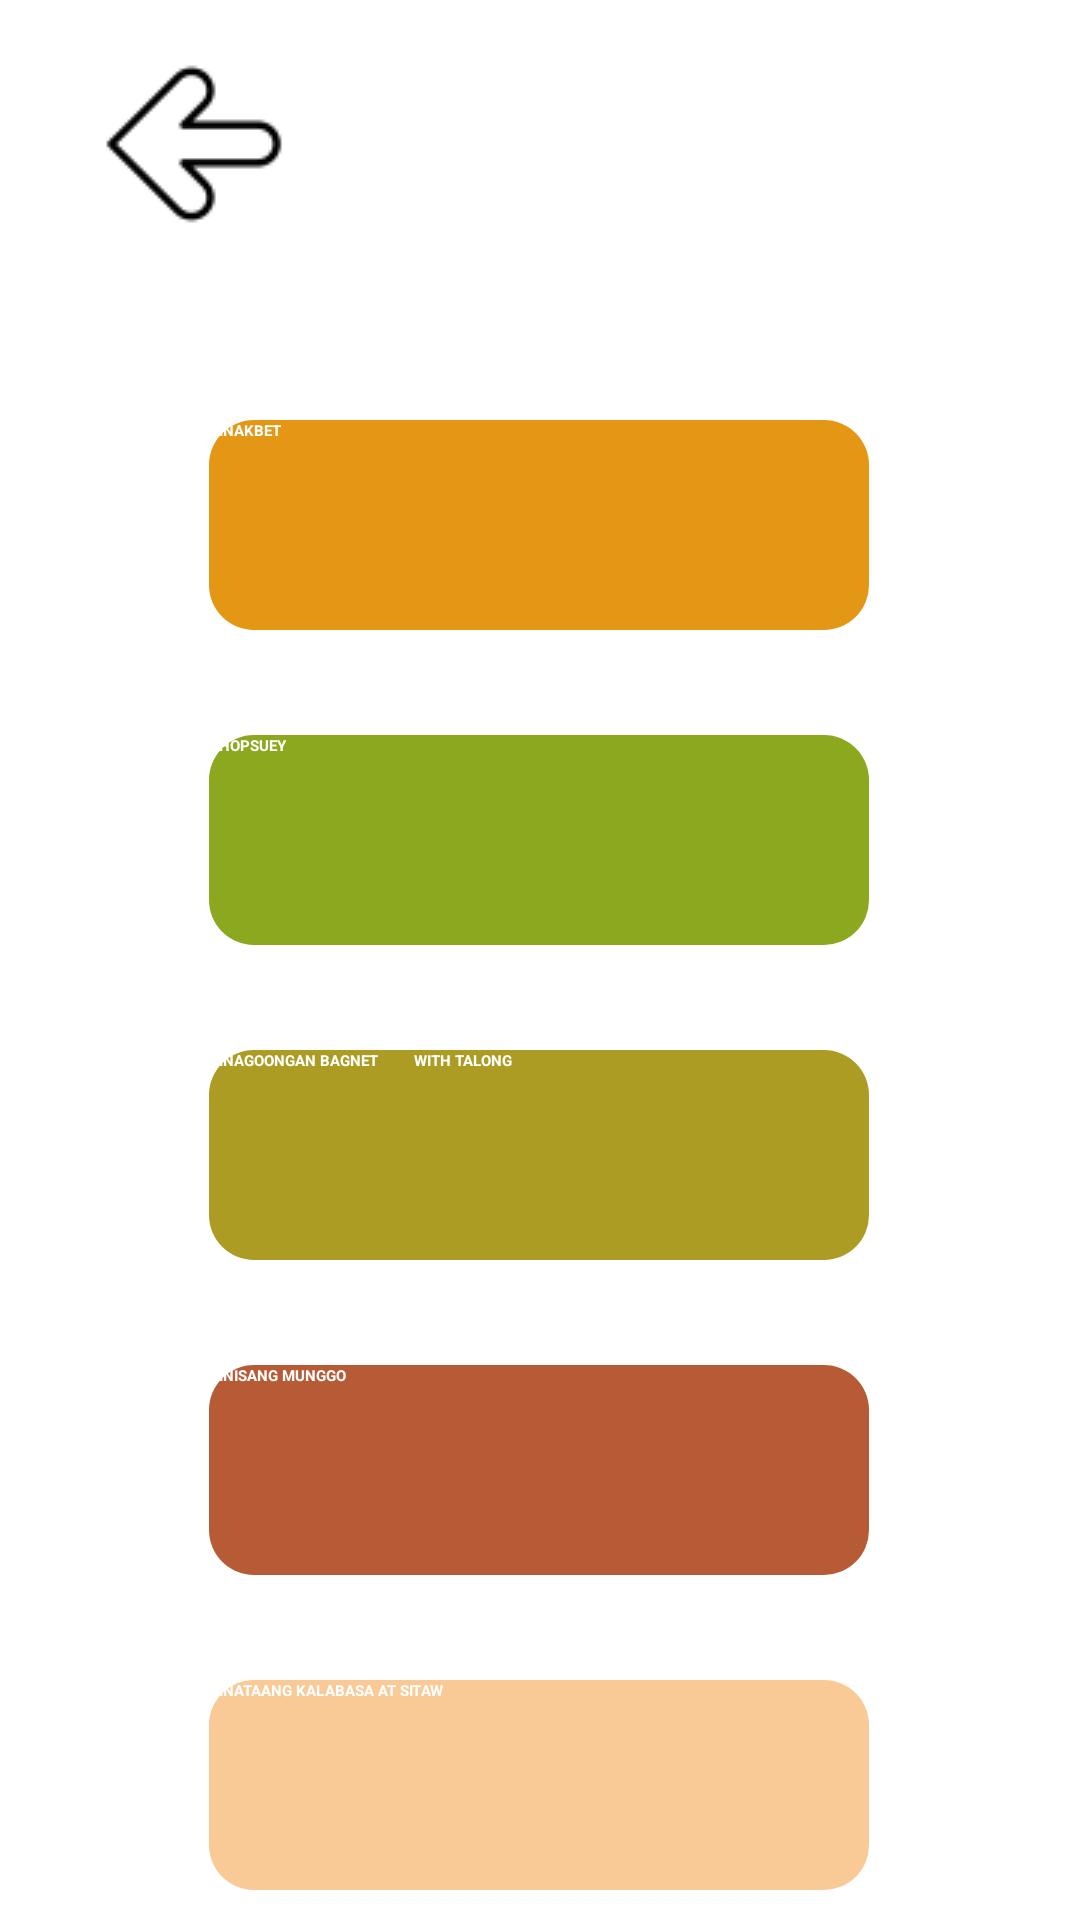

Icon click points for this 1080 × 1920 phone screenshot, format (x,y):
back: (194,144)
